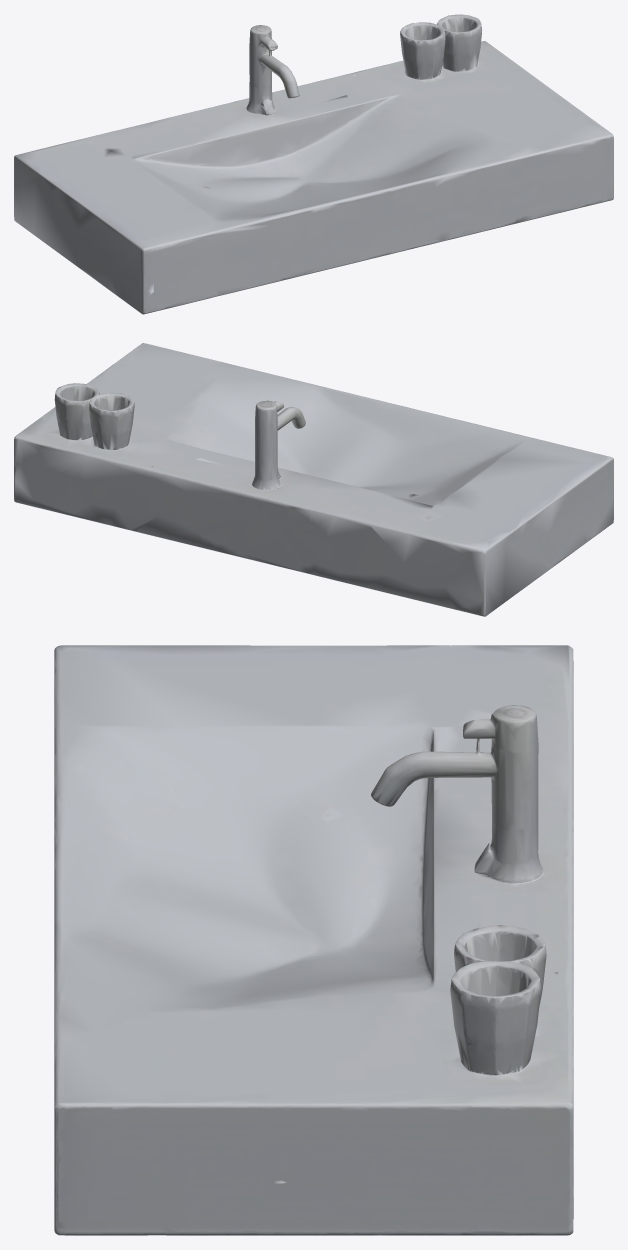
3 views of the same model, one above another, from view 1: azimuth 30°, elevation 25°; view 2: azimuth 150°, elevation 25°; view 3: azimuth 270°, elevation 25° (orthographic). The views are drawn at different scales.
Visible parts, largest first — view 1: material; view 2: material; view 3: material.
Part boxes in pixels (x1,y1,x2,y2): material: (14, 14, 613, 314); material: (14, 343, 613, 616); material: (54, 645, 573, 1235).
Size of the model in its own units: 1.05 by 0.3097 by 0.5009.
1 material, 1 textured.
